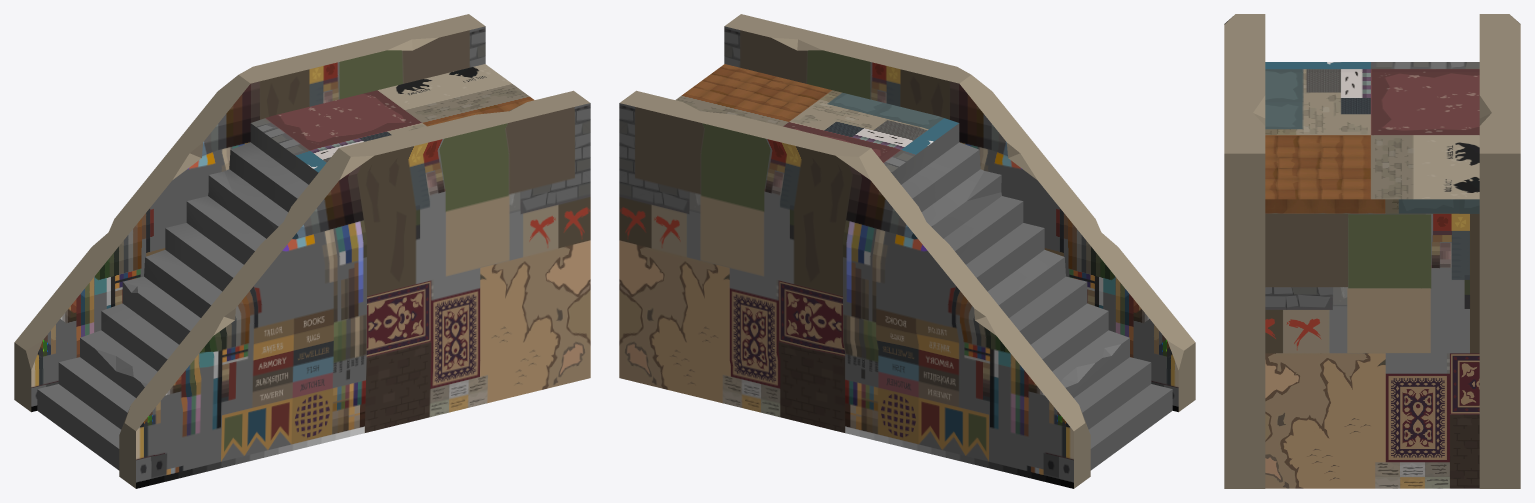
Rendered from kingdom_SM_Bld_Stairs_Straight_Edges_02.gltf.
3 views of the same model, side by side, from view 1: azimuth 30°, elevation 25°; view 2: azimuth 150°, elevation 25°; view 3: azimuth 270°, elevation 25° (orthographic). The views are drawn at different scales.
Visible parts, largest first — view 1: SM_Bld_Stairs_Straight_Edges_02; view 2: SM_Bld_Stairs_Straight_Edges_02; view 3: SM_Bld_Stairs_Straight_Edges_02.
Part boxes in pixels (x1,y1,x2,y2): SM_Bld_Stairs_Straight_Edges_02: (14, 14, 590, 488); SM_Bld_Stairs_Straight_Edges_02: (619, 14, 1195, 488); SM_Bld_Stairs_Straight_Edges_02: (1224, 14, 1520, 488).
Bounding box in the file's own units: 5 × 2.9 × 2.32.
1 material, 1 textured.
